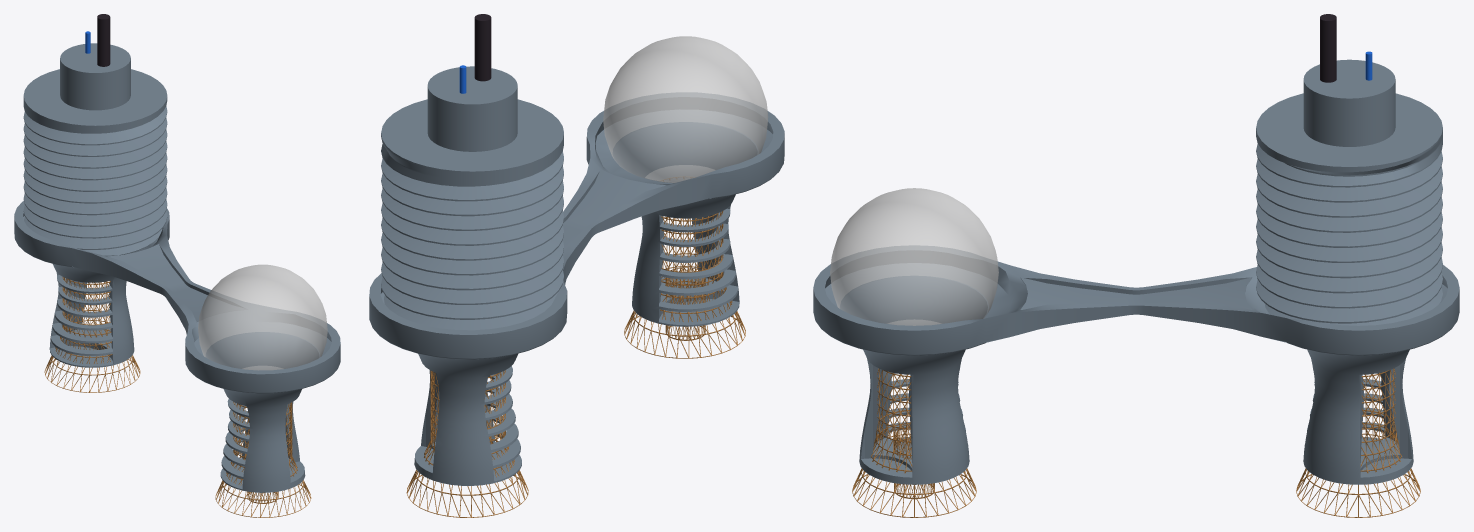
Rendered from Scyscrapper2.fbx.
The picture shows the model from 3 angles, left to right: view 1: azimuth 30°, elevation 25°; view 2: azimuth 150°, elevation 25°; view 3: azimuth 270°, elevation 25°; orthographic projection. The views are drawn at different scales.
Visible parts, largest first — view 1: ScyscrapperMir, Bolt, Sphere.006, ScyscrapperMir.001, Cylinder.010; view 2: ScyscrapperMir, Bolt, Sphere.006, ScyscrapperMir.001, Cylinder.010, ScyscrapperMir.002; view 3: ScyscrapperMir, Bolt, Sphere.006, ScyscrapperMir.001, Cylinder.010, ScyscrapperMir.002.
Part boxes in pixels (bbox=[...]): ScyscrapperMir: bbox=[14, 201, 340, 492]; Bolt: bbox=[23, 43, 167, 255]; Sphere.006: bbox=[198, 264, 327, 370]; ScyscrapperMir.001: bbox=[44, 277, 311, 517]; Cylinder.010: bbox=[97, 14, 110, 66]; ScyscrapperMir: bbox=[369, 92, 784, 485]; Bolt: bbox=[381, 66, 563, 330]; Sphere.006: bbox=[603, 36, 768, 183]; ScyscrapperMir.001: bbox=[406, 176, 745, 517]; Cylinder.010: bbox=[474, 14, 491, 81]; ScyscrapperMir.002: bbox=[665, 267, 705, 340]; ScyscrapperMir: bbox=[813, 245, 1459, 484]; Bolt: bbox=[1256, 59, 1442, 325]; Sphere.006: bbox=[830, 188, 998, 325]; ScyscrapperMir.001: bbox=[852, 368, 1420, 517]; Cylinder.010: bbox=[1320, 14, 1336, 82]; ScyscrapperMir.002: bbox=[894, 424, 934, 499].
Size of the model in its own units: 367 by 948 by 1171.
